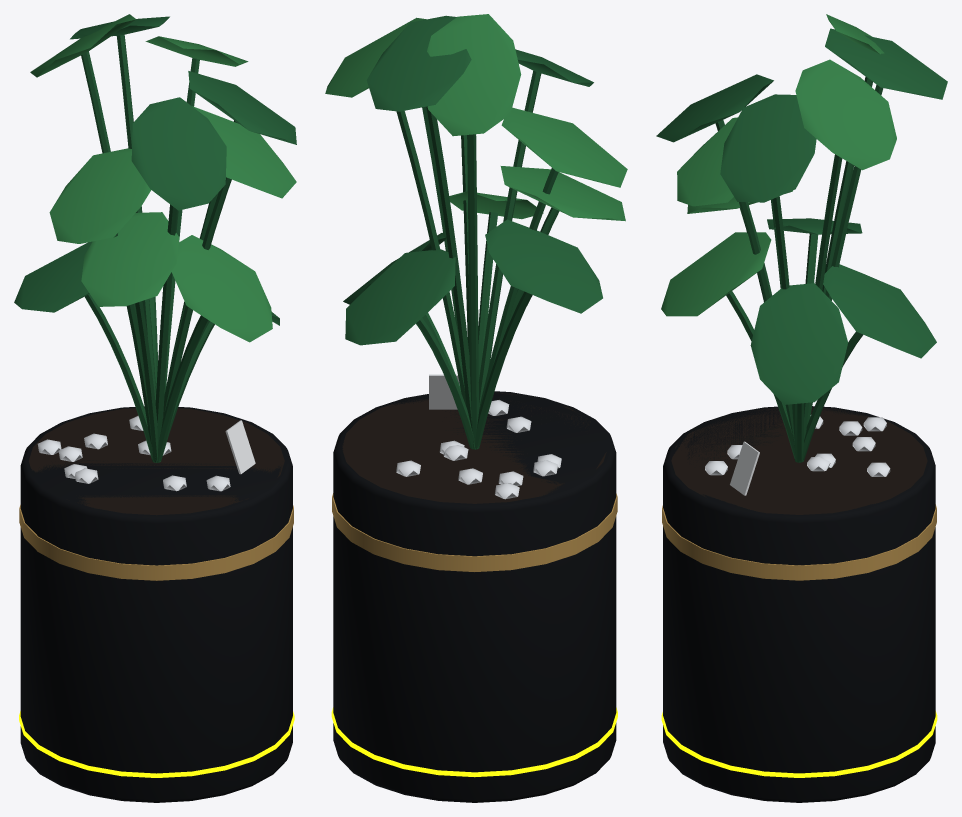
The model's file is plant.glb.
3 views of the same model, side by side, from view 1: azimuth 30°, elevation 25°; view 2: azimuth 150°, elevation 25°; view 3: azimuth 270°, elevation 25° (orthographic). The views are drawn at different scales.
Parts seen in each view (by area): view 1: Body; view 2: Body; view 3: Body.
Part boxes in pixels (<box>): Body: <box>14,14,296,802</box>; Body: <box>325,14,627,802</box>; Body: <box>656,14,947,802</box>.
Bounding box in the file's own units: 0.5304 × 1.46 × 0.5354.
